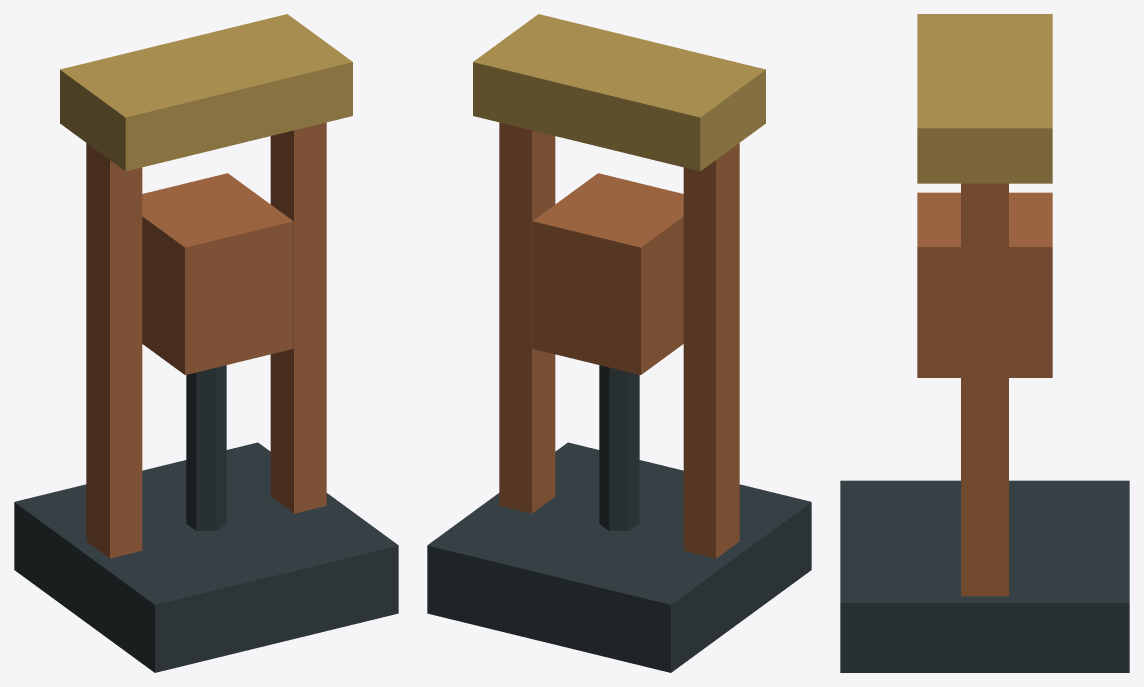
Rendered from drill-lod1.da7c806e6deb.glb.
The picture shows the model from 3 angles, left to right: view 1: azimuth 30°, elevation 25°; view 2: azimuth 150°, elevation 25°; view 3: azimuth 270°, elevation 25°; orthographic projection. The views are drawn at different scales.
Parts seen in each view (by area): view 1: body, drill_head; view 2: body, drill_head; view 3: body, drill_head.
Boxes of the visible parts, left/top/right/bottom form: body: left=14, top=14, right=398, bottom=672; drill_head: left=142, top=173, right=293, bottom=530; body: left=427, top=14, right=811, bottom=672; drill_head: left=532, top=173, right=683, bottom=530; body: left=840, top=14, right=1129, bottom=672; drill_head: left=917, top=192, right=1052, bottom=377.
Size of the model in its own units: 0.9 by 1.86 by 0.9.
